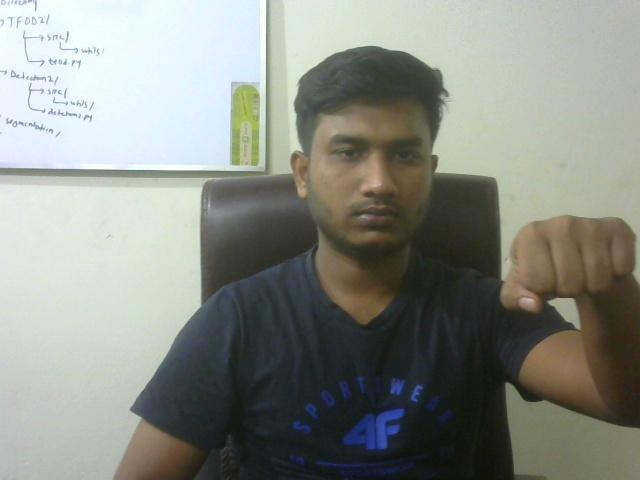Yes: (464, 197, 640, 326)
